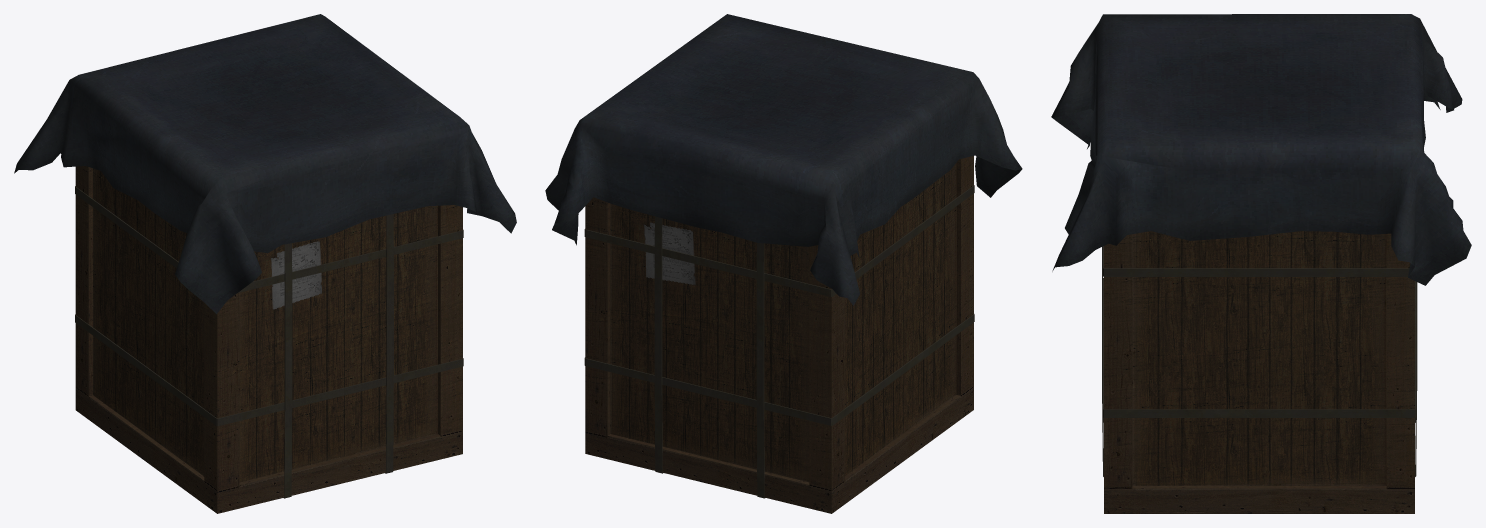
The model's file is wooden_crate_hx_2_2.glb.
3 views of the same model, side by side, from view 1: azimuth 30°, elevation 25°; view 2: azimuth 150°, elevation 25°; view 3: azimuth 270°, elevation 25° (orthographic). The views are drawn at different scales.
Parts seen in each view (by area): view 1: wooden_crate_hx_2_2; view 2: wooden_crate_hx_2_2; view 3: wooden_crate_hx_2_2.
Part boxes in pixels (box(x1,y1,x2,y2)): wooden_crate_hx_2_2: box(14, 14, 516, 513); wooden_crate_hx_2_2: box(545, 14, 1022, 513); wooden_crate_hx_2_2: box(1051, 14, 1471, 513).
Size of the model in its own units: 1.89 by 1.84 by 1.89.
3 materials, 3 textured.
